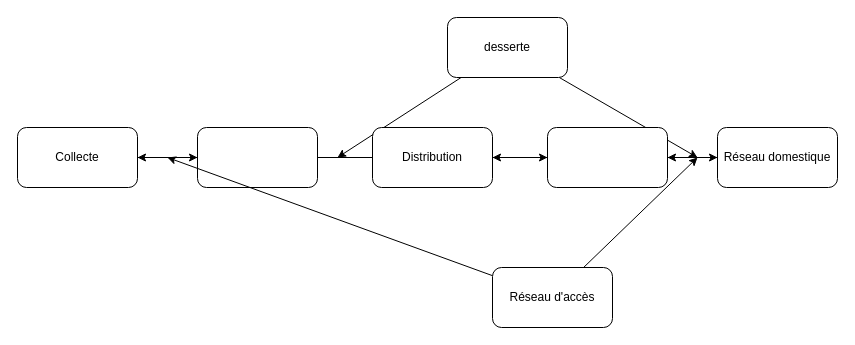
This 855x345 diagram has some shape labels left out. The shapes that lost their labels are listed below. From the top down, each one's centre as x and y in pixels, then its label:
the point at 257,157: Transport
the point at 607,157: Branchement
